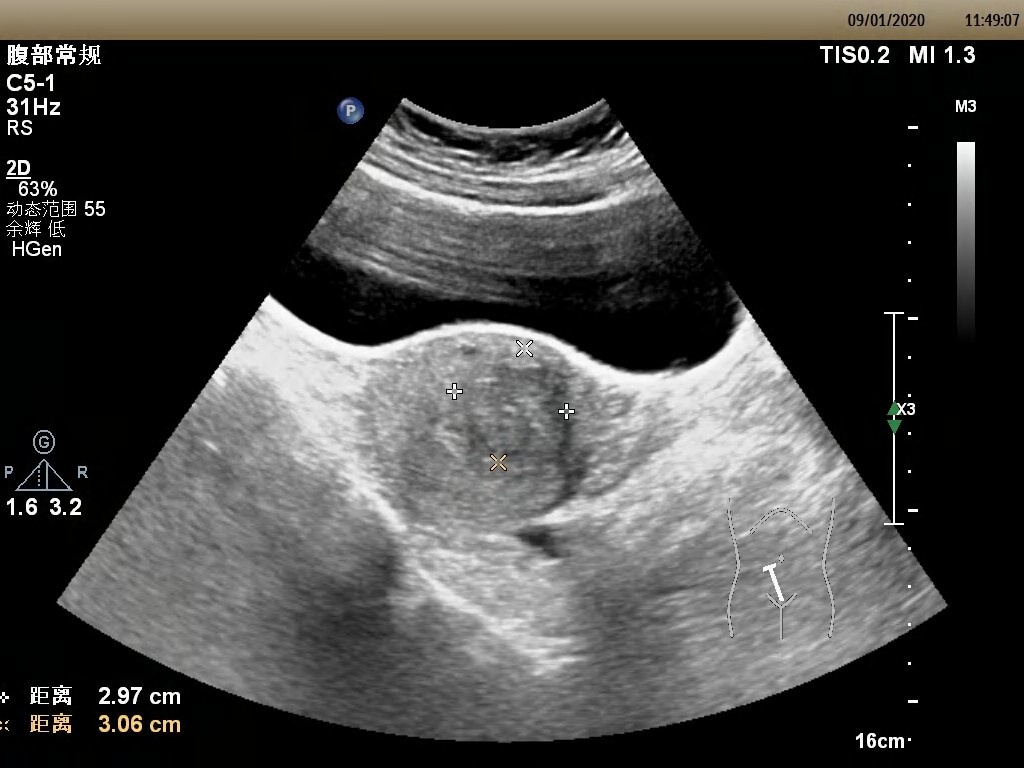肌瘤: (454, 349, 572, 465)
